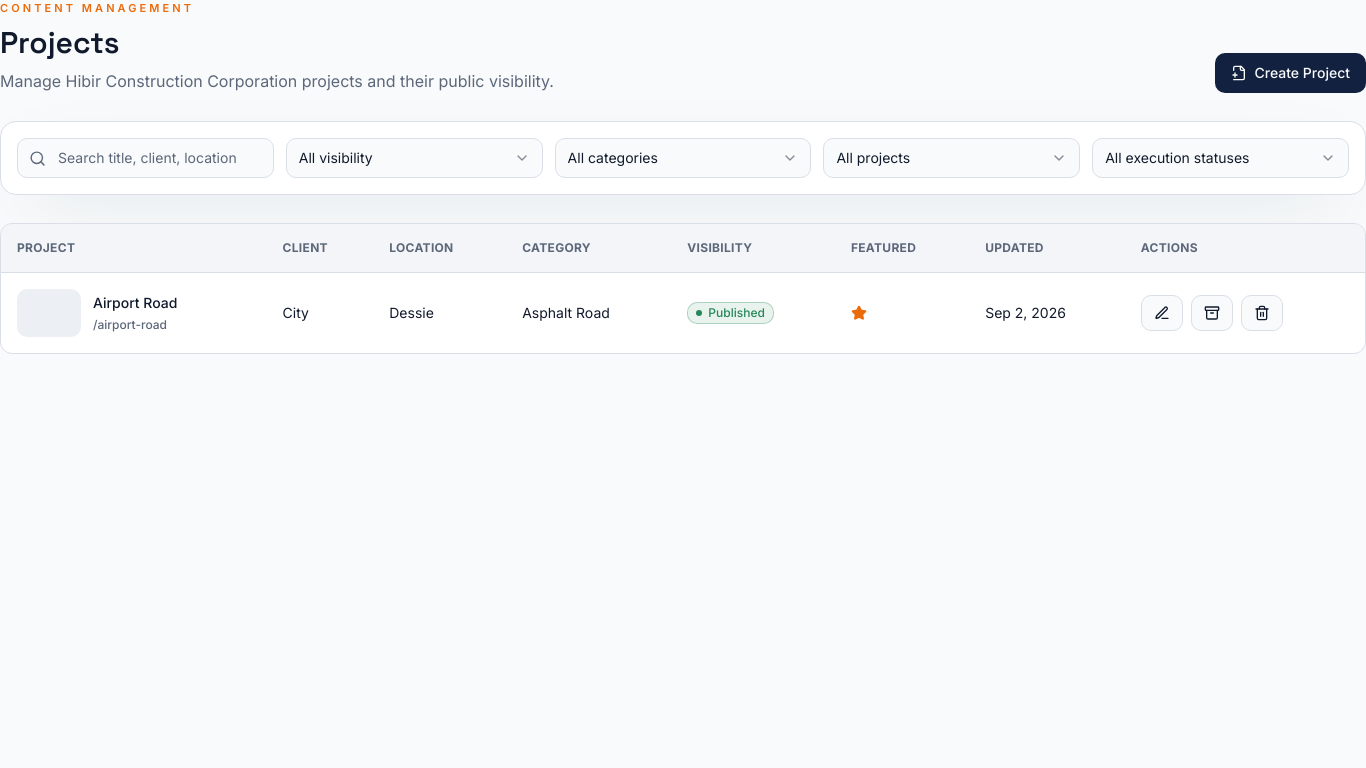
Scenario: projects CMS › requires confirmation before deleting a project
This screenshot has width=1366, height=768.
Click the button named "Delete Airport Road". click: [1262, 312]
box: [1241,294,1283,330]
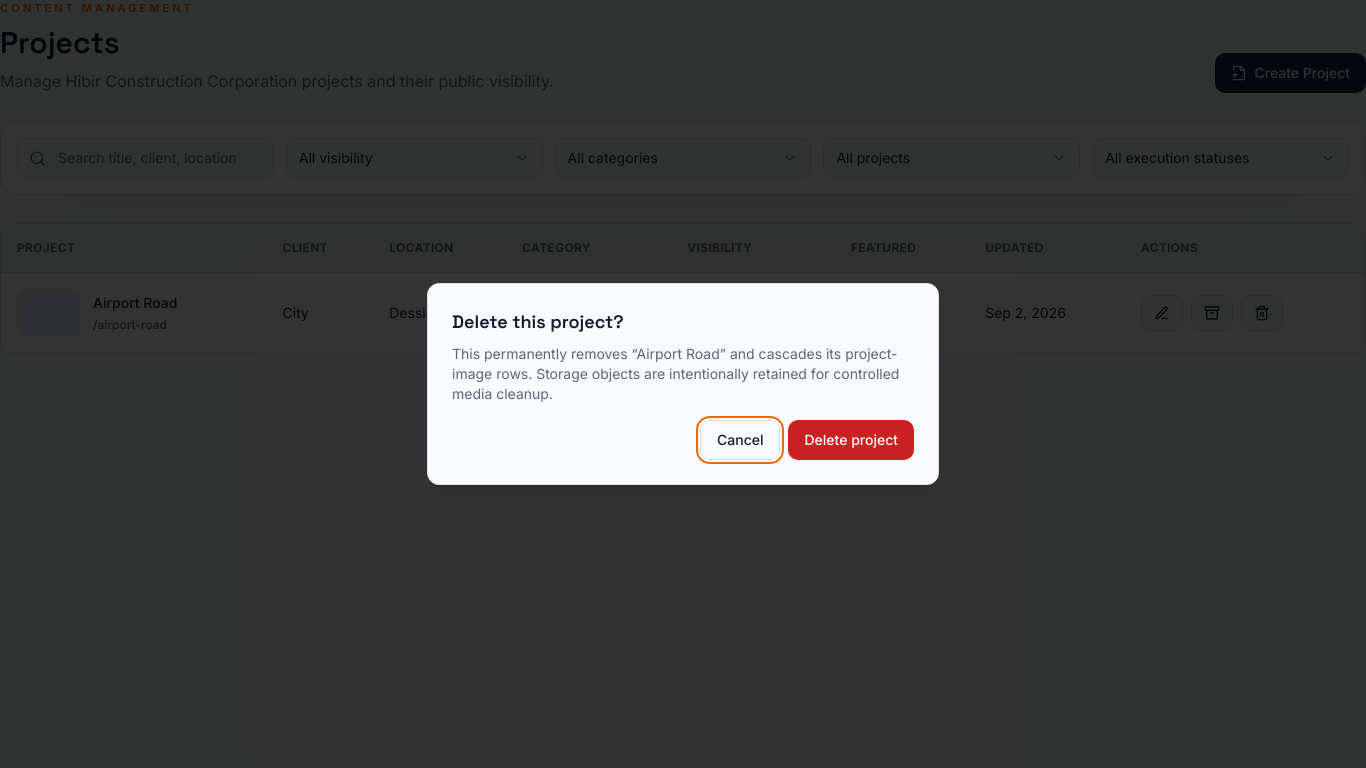
Expected: the heading "Delete this project?" is shown, [452,310,624,333]
